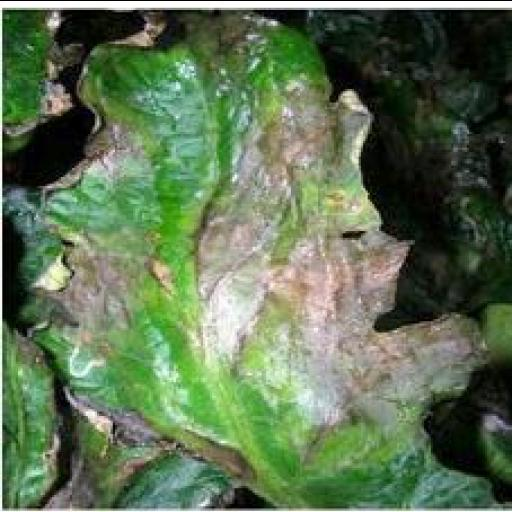disease_tomato: (32, 12, 496, 506)
